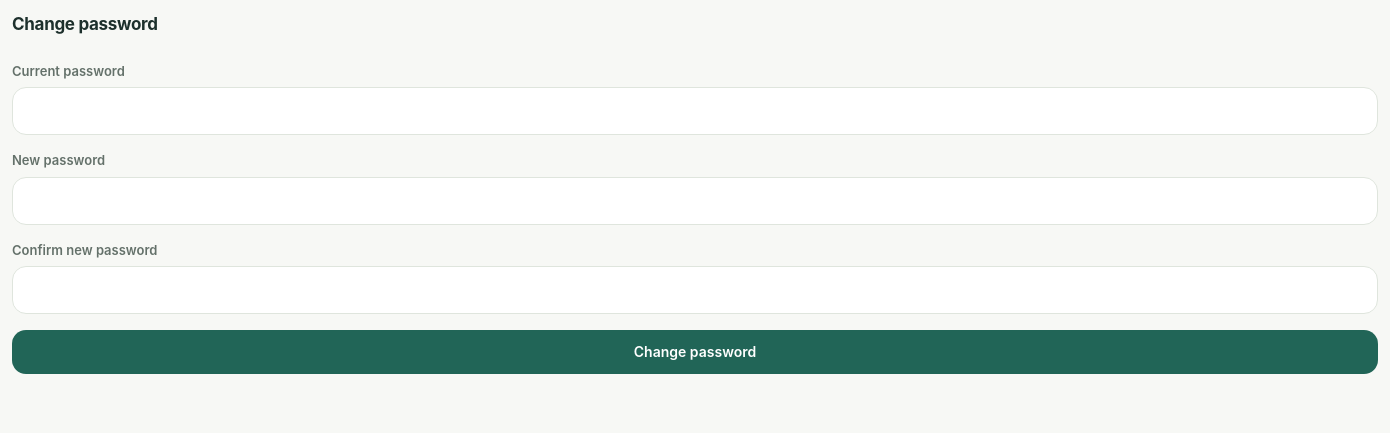
Test case: ChangePasswordForm › requires the current password before checking the new one
Type "short" into the password field with test id "pw-new" at (695, 200), box [12,176,1378,224]
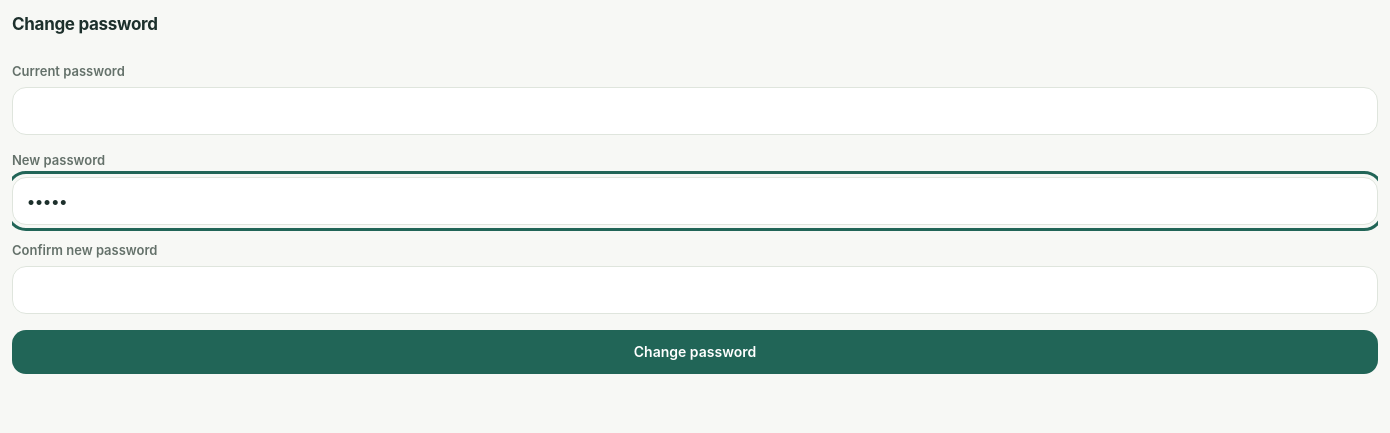
Type "short" into the password field with test id "pw-confirm" at (695, 290), box [12,266,1378,314]
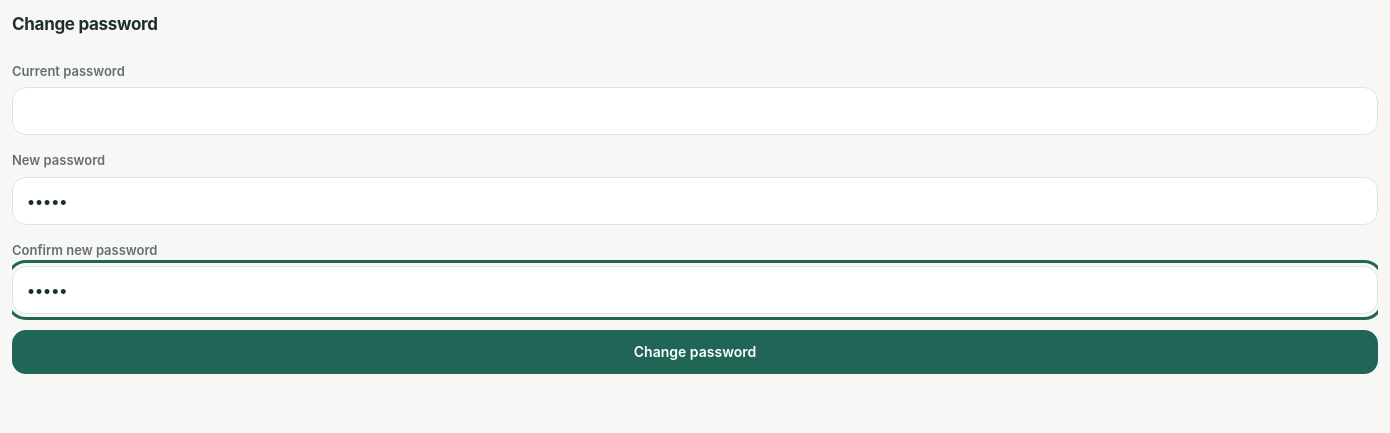
Click the button with test id "pw-submit" at (695, 352), box [12,330,1378,374]
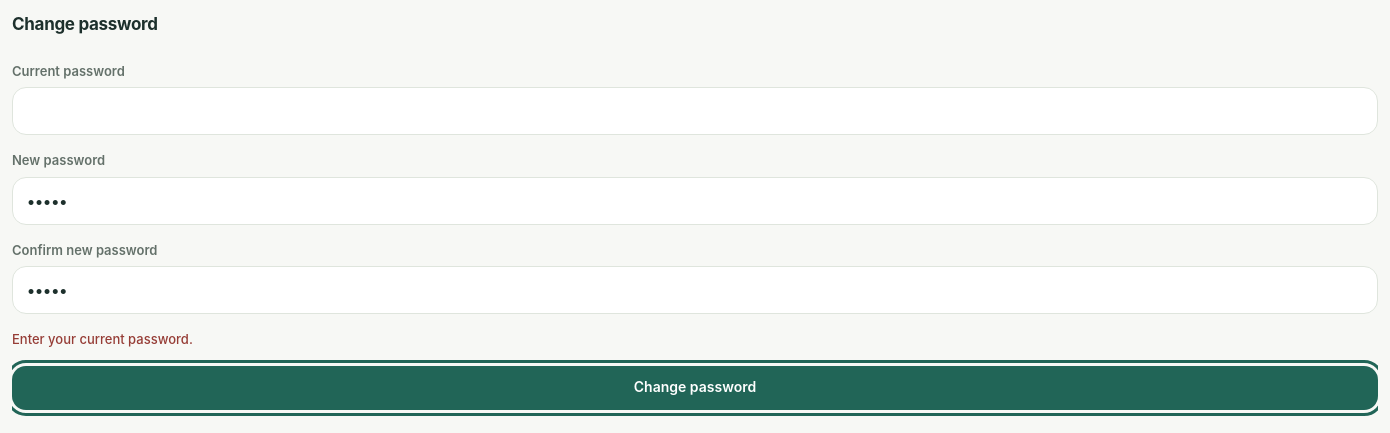
Now the text with test id "pw-error" reads "Enter your current password.", box [12,331,193,347]
